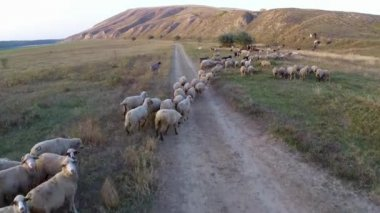sheep: (26, 157, 77, 213), (1, 152, 38, 207), (29, 136, 84, 170), (124, 96, 153, 136), (155, 108, 184, 140), (122, 90, 149, 116), (177, 94, 195, 120), (159, 97, 178, 118), (283, 66, 297, 81), (195, 80, 207, 97), (174, 92, 185, 109), (175, 85, 186, 101), (313, 67, 324, 83), (187, 86, 198, 100), (298, 67, 308, 81), (206, 71, 216, 83), (273, 67, 280, 79), (245, 58, 253, 68), (240, 66, 247, 76)
